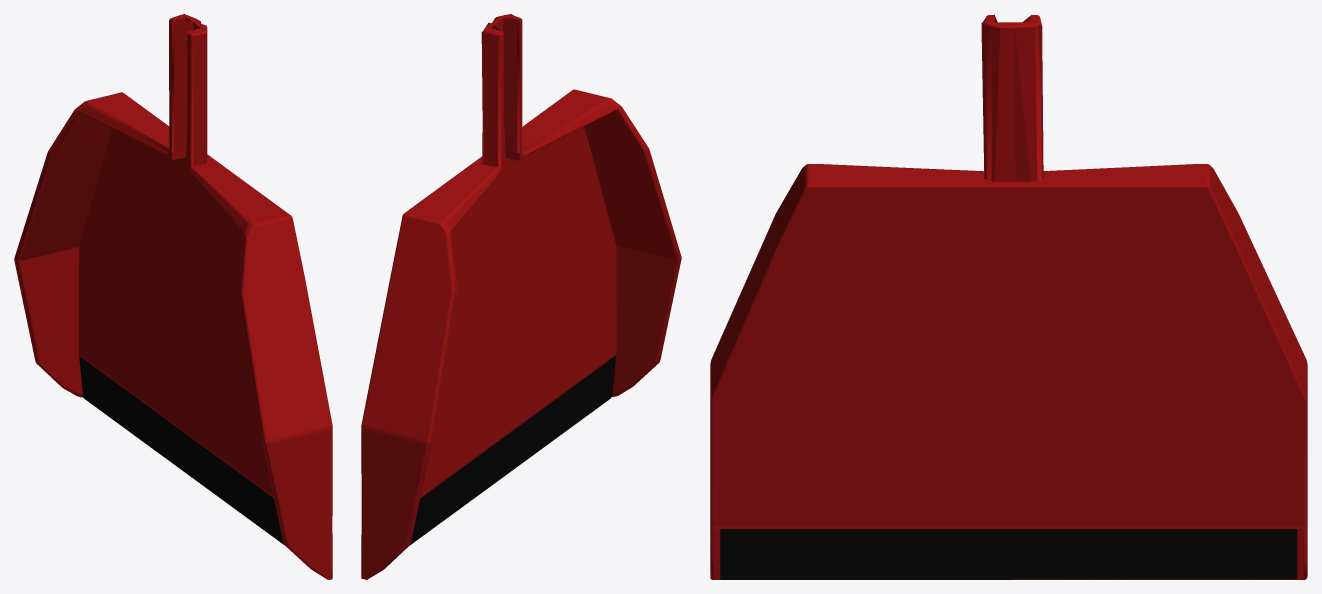
Rendered from dust pan.fbx.
The picture shows the model from 3 angles, left to right: view 1: azimuth 30°, elevation 25°; view 2: azimuth 150°, elevation 25°; view 3: azimuth 270°, elevation 25°; orthographic projection. The views are drawn at different scales.
Visible parts, largest first — view 1: dust pan; view 2: dust pan; view 3: dust pan.
Part boxes in pixels (<box>): dust pan: <box>14,14,332,579</box>; dust pan: <box>361,14,681,579</box>; dust pan: <box>710,14,1307,579</box>.
Bounding box in the file's own units: 47.06 × 306 × 301.
